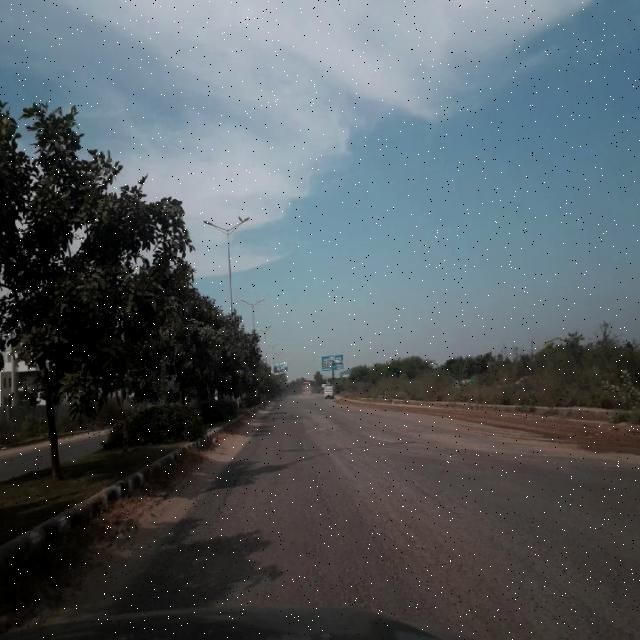D00: (380, 449, 615, 629), (187, 454, 248, 566)
D20: (287, 458, 444, 612), (136, 453, 252, 610)
